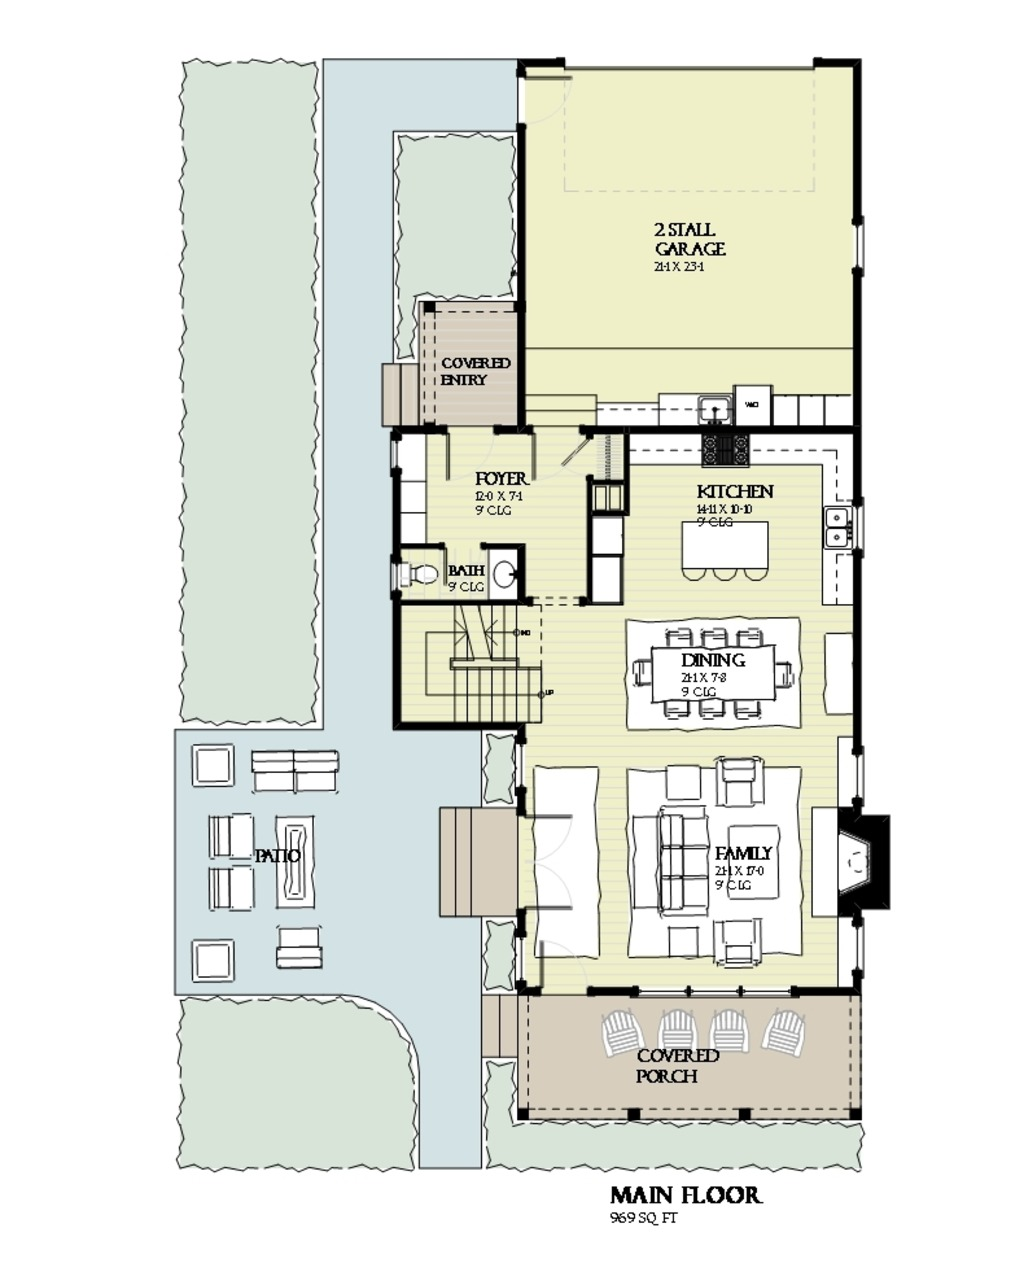dining_table: (632, 626, 797, 723)
kitchen_bar: (678, 516, 777, 592)
large_sink: (386, 553, 436, 597)
small_sink: (484, 545, 521, 597)
stairs: (397, 603, 551, 725)
twin_sink: (819, 501, 852, 548)
windows: (634, 981, 797, 997), (850, 212, 867, 274)
